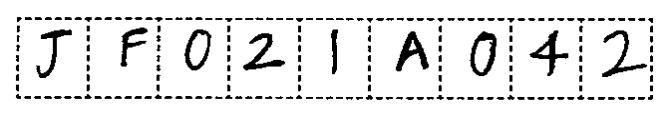0: (464, 28, 502, 80), (181, 25, 216, 74)
1: (317, 26, 356, 78)
2: (594, 26, 650, 84), (240, 28, 289, 75)
4: (525, 30, 573, 83)
A: (392, 28, 434, 74)
F: (114, 25, 152, 69)
J: (28, 25, 78, 83)
